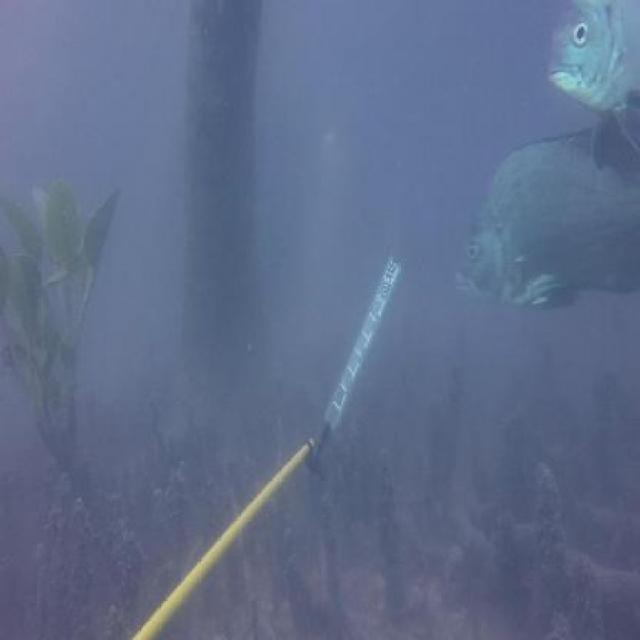acanthopagrus_palmaris: (449, 106, 640, 319), (544, 3, 640, 180)
